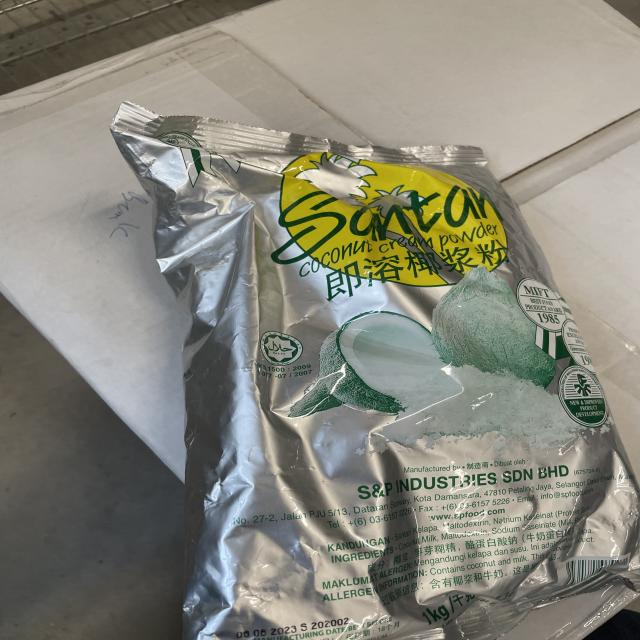object_name: (147, 131, 640, 624)
